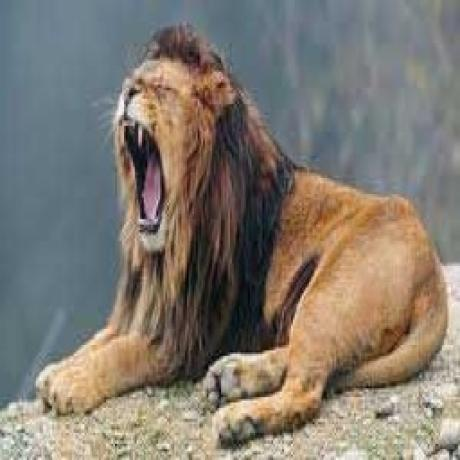Lion: (35, 21, 454, 450)
